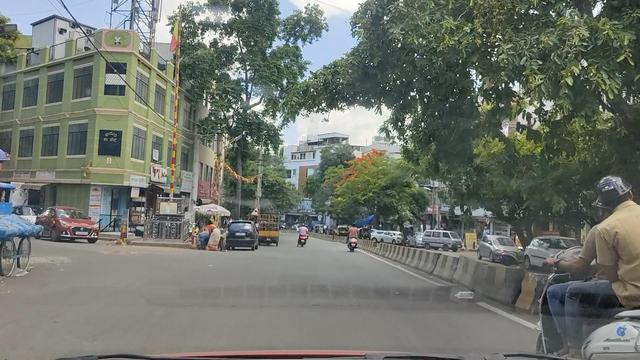LMV: (554, 188, 640, 360), (232, 221, 256, 247)
